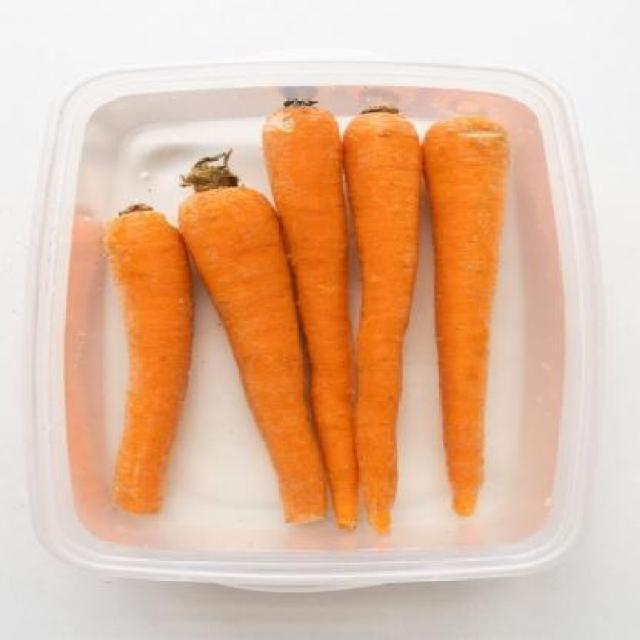Carrot: (180, 152, 326, 522), (264, 101, 358, 528), (422, 116, 509, 516), (342, 106, 422, 533), (104, 204, 192, 513)
